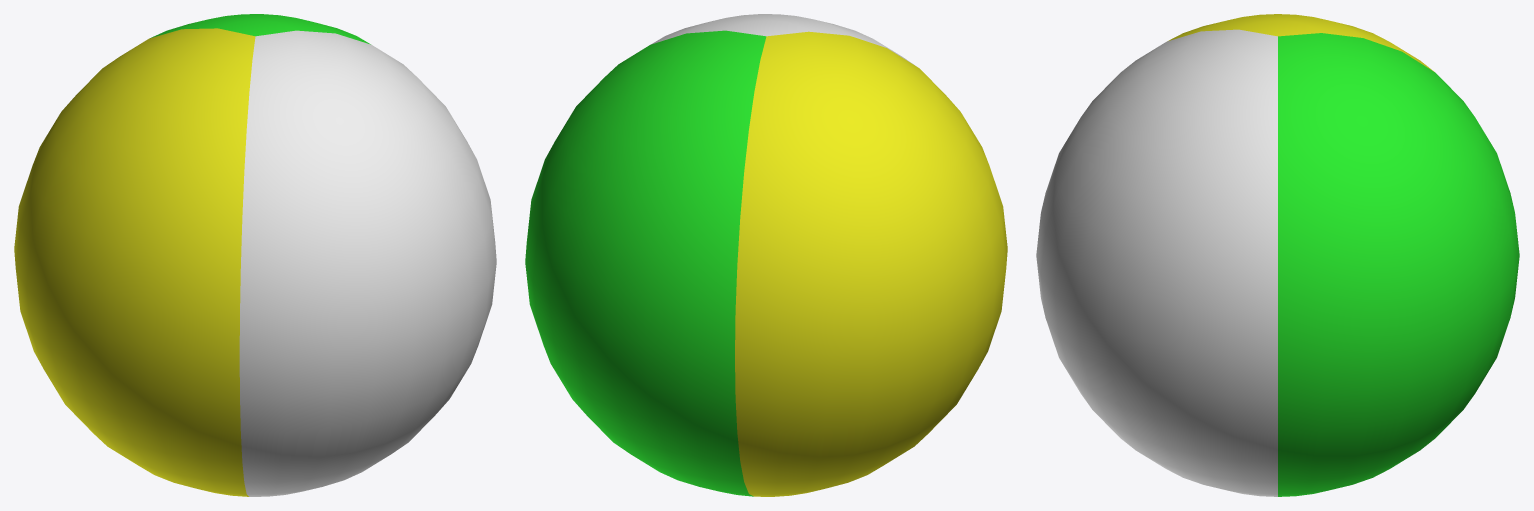
The picture shows the model from 3 angles, left to right: view 1: azimuth 30°, elevation 25°; view 2: azimuth 150°, elevation 25°; view 3: azimuth 270°, elevation 25°; orthographic projection.
Visible parts, largest first — view 1: Sphere; view 2: Sphere; view 3: Sphere.
Part boxes in pixels (x1,y1,x2,y2): Sphere: (14,14,496,496); Sphere: (525,14,1007,496); Sphere: (1036,14,1519,496).
Size of the model in its own units: 2.32 by 2.32 by 2.32.
